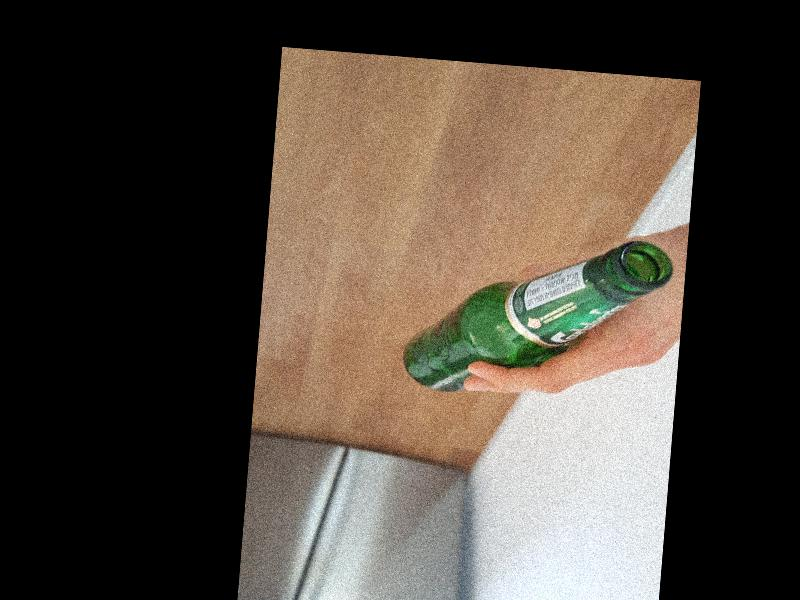Beer: (400, 221, 676, 408)
